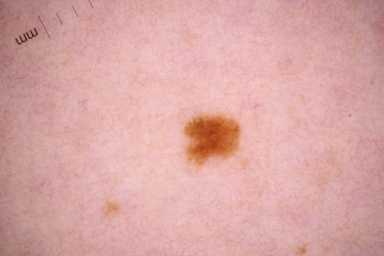melanoma: (183, 114, 240, 164)
